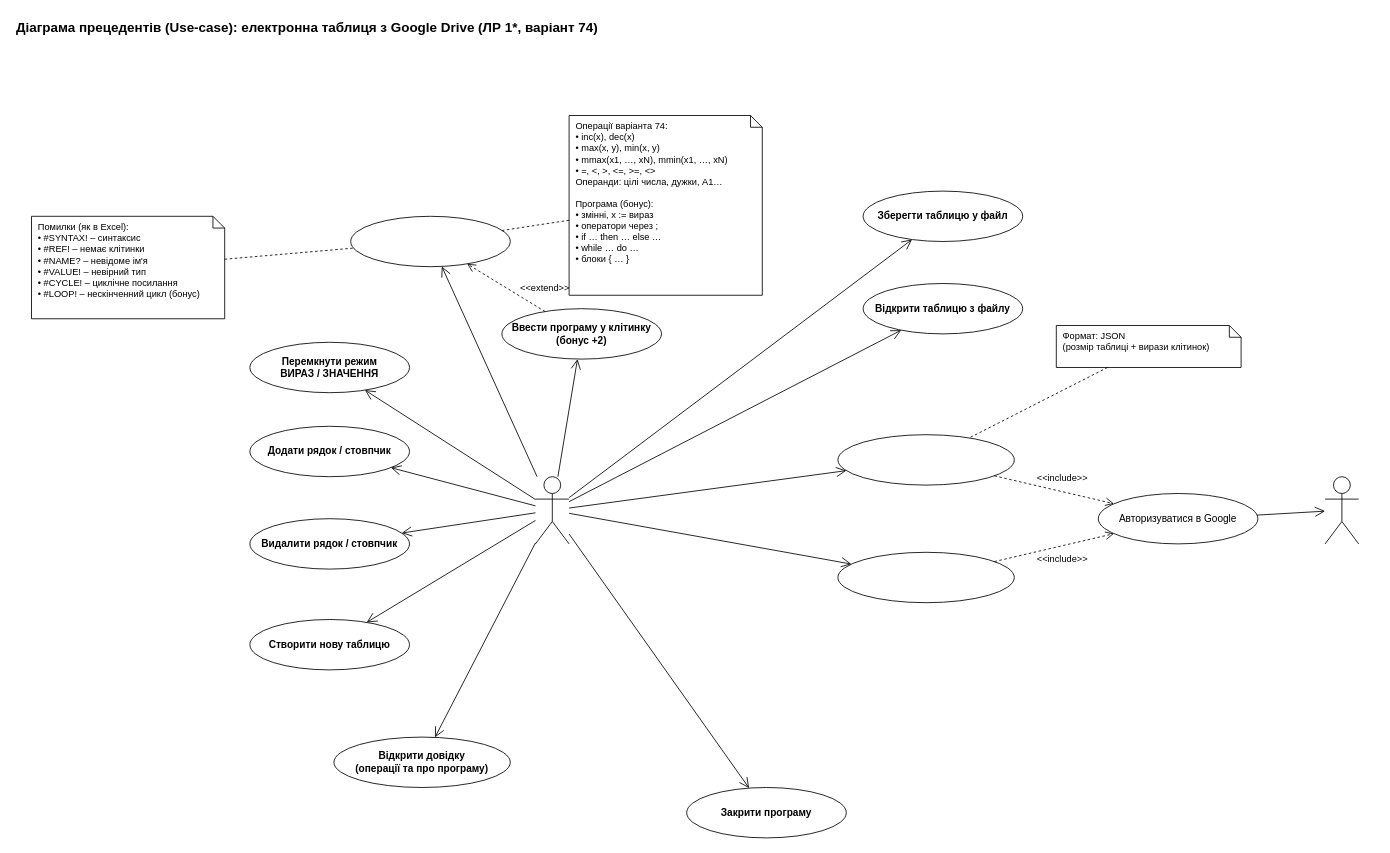
This 1390x853 diagram has some shape labels left out. Each missing label, with the centre of its shape:
"Google Drive" belongs at (1341,510).
"Ввести вираз у клітинку" belongs at (430,241).
"Відкрити таблицю з Google Drive" belongs at (925,577).
"Зберегти таблицю на Google Drive" belongs at (925,459).
"Користувач" belongs at (552,510).
